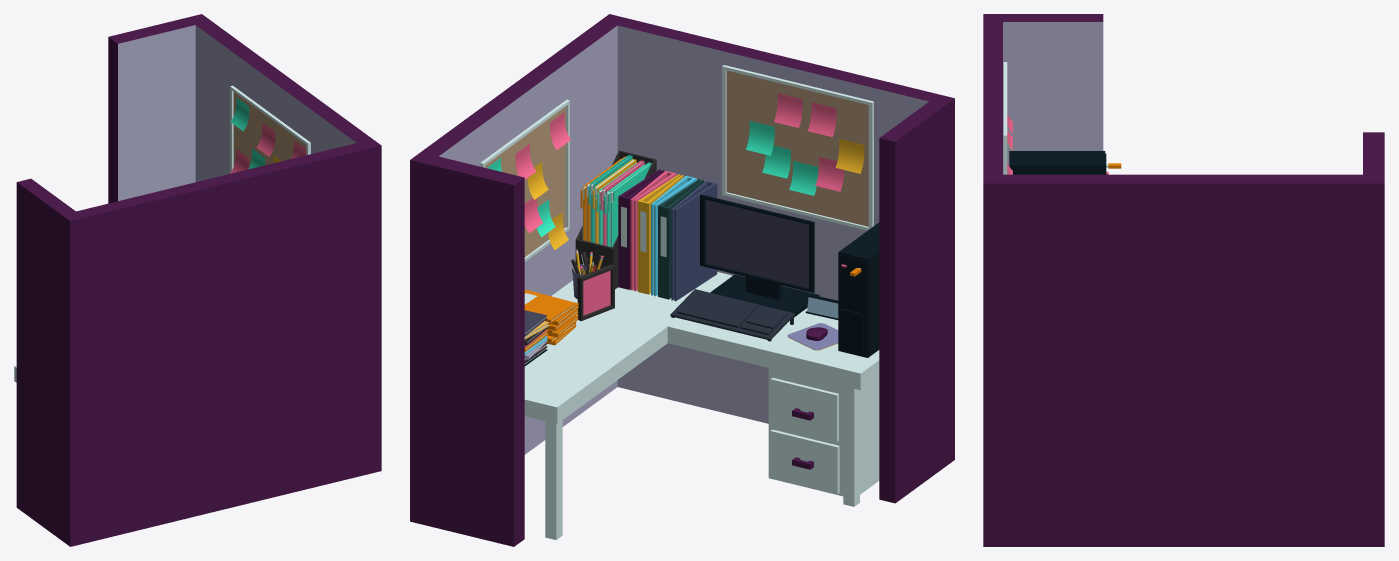
Rendered from Cubicle03.fbx.
The picture shows the model from 3 angles, left to right: view 1: azimuth 30°, elevation 25°; view 2: azimuth 150°, elevation 25°; view 3: azimuth 270°, elevation 25°; orthographic projection. The views are drawn at different scales.
Parts seen in each view (by area): view 1: Cubicle, CorkBoard.002; view 2: Cubicle, CubicleDesk, CorkBoard.004, Desktop, Desktop Hardrive.002, CorkBoard.002, Keyboard, Binder.012, PhotoFrame.002, Binder.008, Binder.013, Binder.011 (+14 smaller); view 3: Cubicle, Desktop Hardrive.002, CorkBoard.004.
Boxes of the visible parts, x1,y1,x2,y2 form: Cubicle: (16, 14, 381, 546); CorkBoard.002: (230, 85, 310, 173); Cubicle: (410, 14, 954, 546); CubicleDesk: (524, 272, 879, 539); CorkBoard.004: (722, 65, 873, 230); Desktop: (700, 194, 819, 317); Desktop Hardrive.002: (838, 222, 879, 357); CorkBoard.002: (480, 99, 569, 261); Keyboard: (670, 289, 794, 341); Binder.012: (671, 180, 717, 301); PhotoFrame.002: (577, 264, 614, 321); Binder.008: (637, 174, 683, 294); Binder.013: (658, 179, 703, 299); Binder.011: (618, 169, 664, 289); Cubicle: (983, 14, 1384, 546); Desktop Hardrive.002: (1009, 151, 1121, 174); CorkBoard.004: (1003, 62, 1007, 174).
Bounding box in the file's own units: 99967 × 99967 × 99967.
67 materials, 67 textured.
